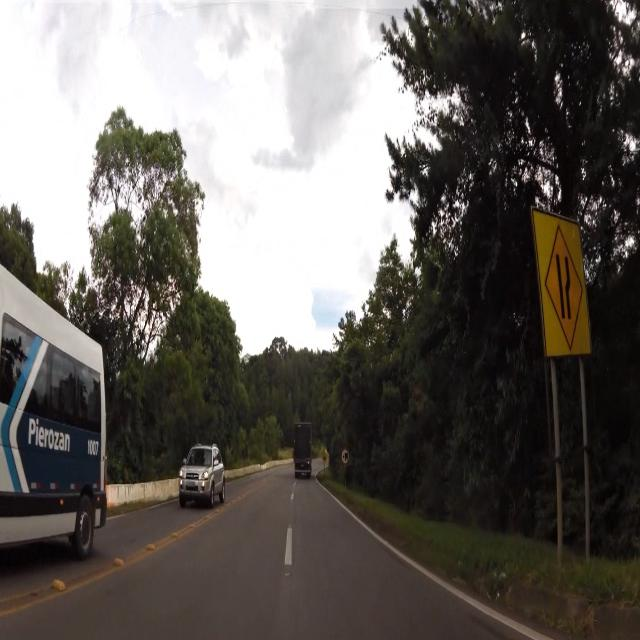A-21e: (536, 220, 596, 354)
